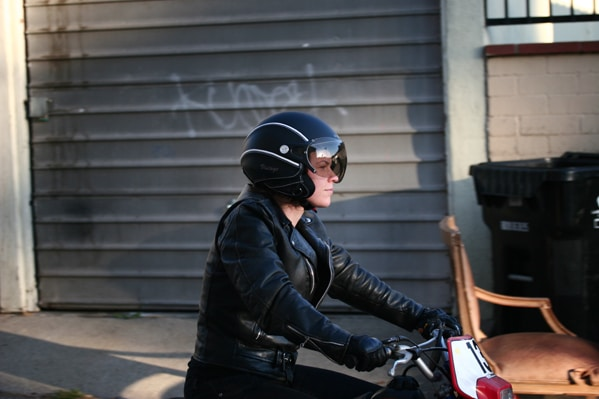helmet: (206, 101, 352, 222)
